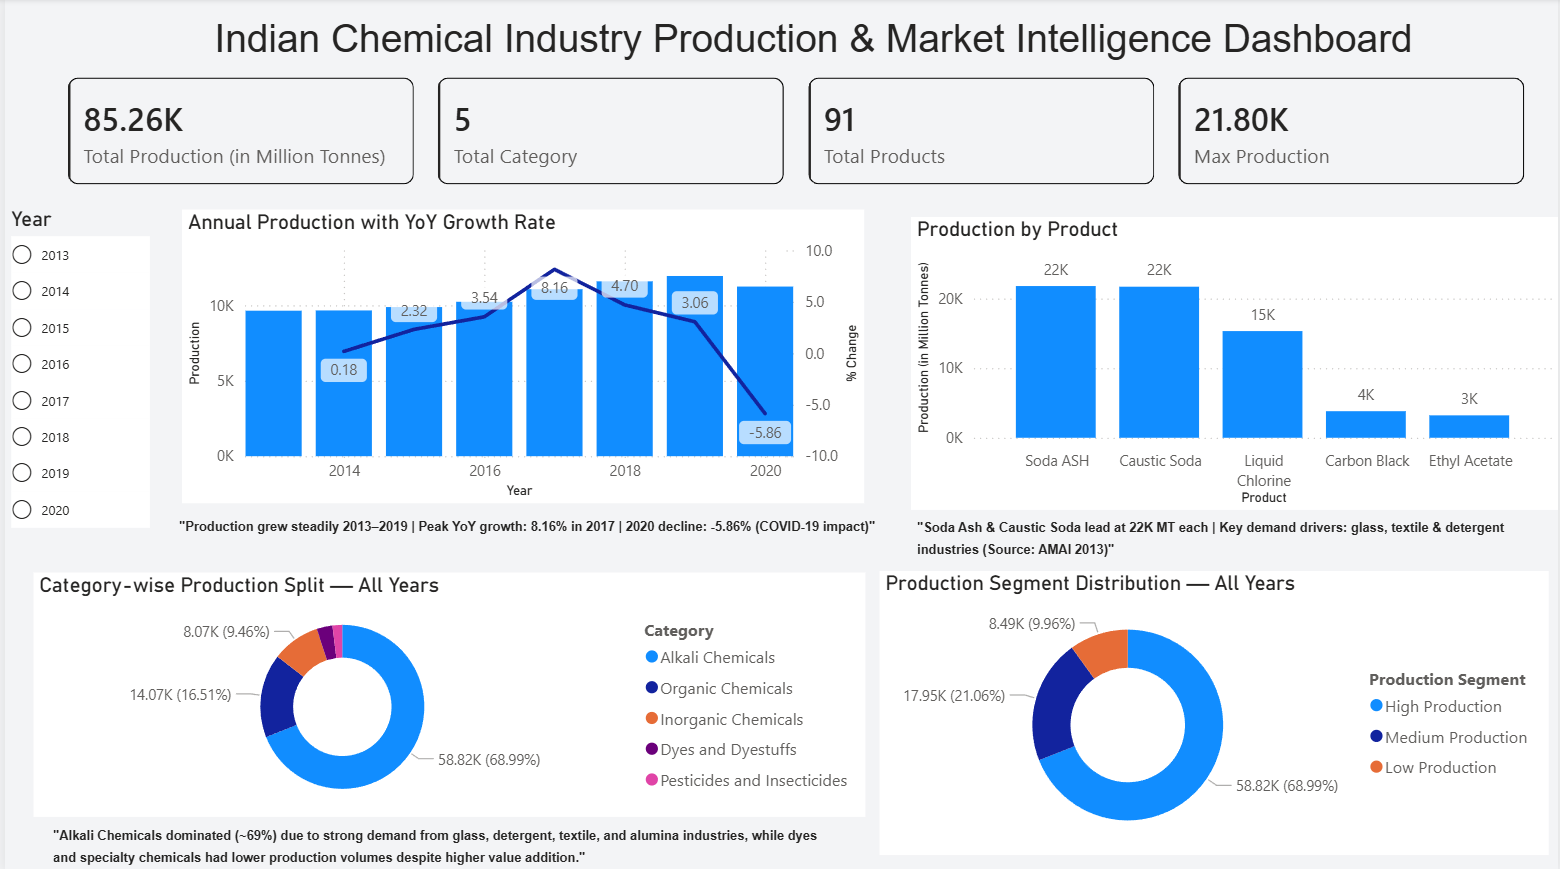

The page's visual inventory and layout, read from the dashboard file:
{"tool":"powerbi","page":{"name":"Page 1","canvas":[1280,720],"ordinal":0},"visuals":[{"type":"cardVisual","fields":{"Data":["Sum(Chemical.Production)","Chemical.Total_Category","Chemical.Total_Products","Chemical.Max Production"]},"box":[35.1,48.6,1236.5,123],"z":0},{"type":"donutChart","fields":{"Category":["chemicals category.Category"],"Y":["Sum(chemicals category.Production)"]},"box":[23,473,685.1,201.4],"z":1000},{"type":"lineStackedColumnComboChart","title":" Annual Production with YoY Growth Rate","fields":{"Y":["Sum(chemicals year on year production.Production)"],"Category":["chemicals year on year production.year"],"Y2":["Sum(chemicals year on year production.% Change)"]},"box":[145.9,174.3,562.2,241.9],"z":2000},{"type":"textbox","box":[158.1,9.5,1012.2,101.4],"z":3000},{"type":"listSlicer","fields":{"Values":["Chemical.Year"]},"box":[0,171.6,137.8,270.3],"z":4000},{"type":"columnChart","title":" Production by Product","fields":{"Category":["Chemical.Product"],"Y":["Sum(Chemical.Production)"]},"box":[746.2,180,533.8,241.5],"z":5000},{"type":"textbox","box":[138.5,418.5,615.4,33.8],"z":6000},{"type":"textbox","box":[746.2,420,533.8,52.3],"z":7000},{"type":"donutChart","fields":{"Category":["chemicals production segment.Production Segment"],"Y":["Sum(chemicals production segment.Production)"]},"box":[720.3,471.6,551.4,233.8],"z":8000},{"type":"textbox","box":[35.1,673,647.3,45.9],"z":9000}]}

Visuals, with their boxes in screenshot pixels (x1, y1, x2, y2), scaled from the page's 1280x720 canvas onto the 1560x869 screenshot:
cardVisual - Sum(Chemical.Production) x Chemical.Total_Category: box=[43, 59, 1550, 207]
donutChart - chemicals category.Category x Sum(chemicals category.Production): box=[28, 571, 863, 814]
" Annual Production with YoY Growth Rate" lineStackedColumnComboChart: box=[178, 210, 863, 502]
textbox: box=[193, 11, 1426, 134]
listSlicer - Chemical.Year: box=[0, 207, 168, 533]
" Production by Product" columnChart: box=[909, 217, 1559, 509]
textbox: box=[169, 505, 919, 546]
textbox: box=[909, 507, 1559, 570]
donutChart - chemicals production segment.Production Segment x Sum(chemicals production segment.Production): box=[878, 569, 1550, 851]
textbox: box=[43, 812, 832, 868]
